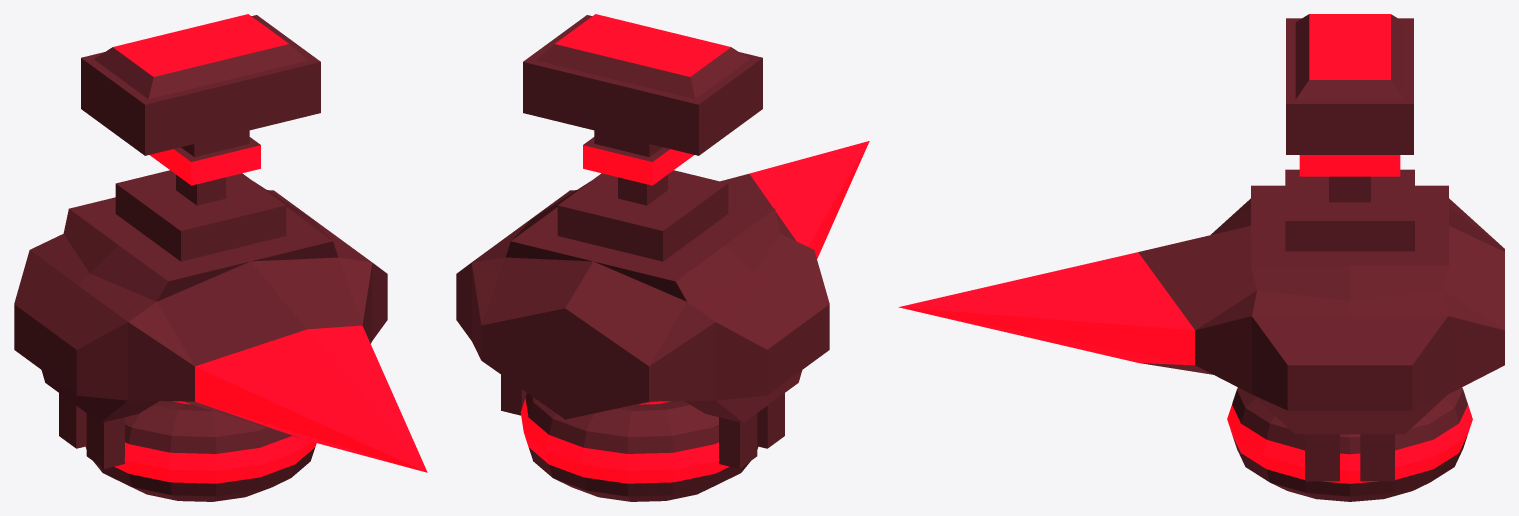
The model's file is enemy_hit.glb.
3 views of the same model, side by side, from view 1: azimuth 30°, elevation 25°; view 2: azimuth 150°, elevation 25°; view 3: azimuth 270°, elevation 25° (orthographic).
Parts seen in each view (by area): view 1: Body.001, Wheel.001; view 2: Body.001, Wheel.001; view 3: Body.001, Wheel.001.
Boxes of the visible parts, x1=… form: Body.001: x1=14, y1=14, x2=427, y2=472; Wheel.001: x1=85, y1=401, x2=316, y2=501; Body.001: x1=456, y1=14, x2=869, y2=468; Wheel.001: x1=520, y1=393, x2=758, y2=501; Body.001: x1=898, y1=14, x2=1504, y2=481; Wheel.001: x1=1227, y1=387, x2=1472, y2=501.
Size of the model in its own units: 2.39 by 3.08 by 4.05.
